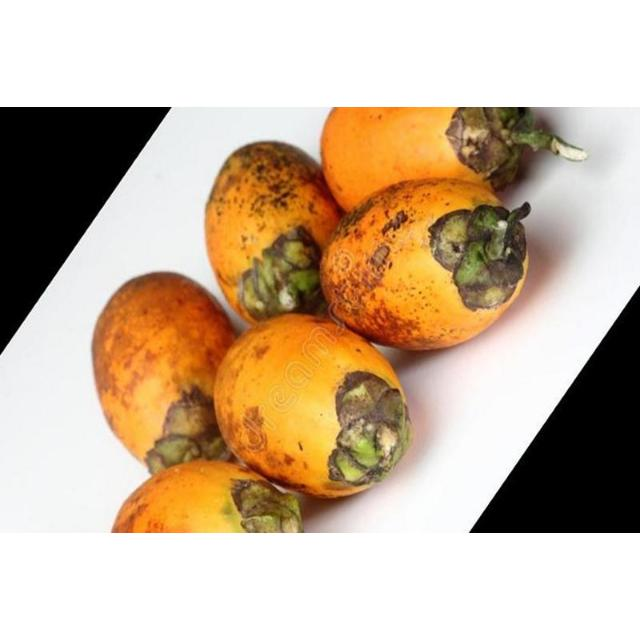good: (212, 314, 412, 504), (320, 177, 524, 351), (91, 274, 237, 472), (203, 140, 341, 328)
